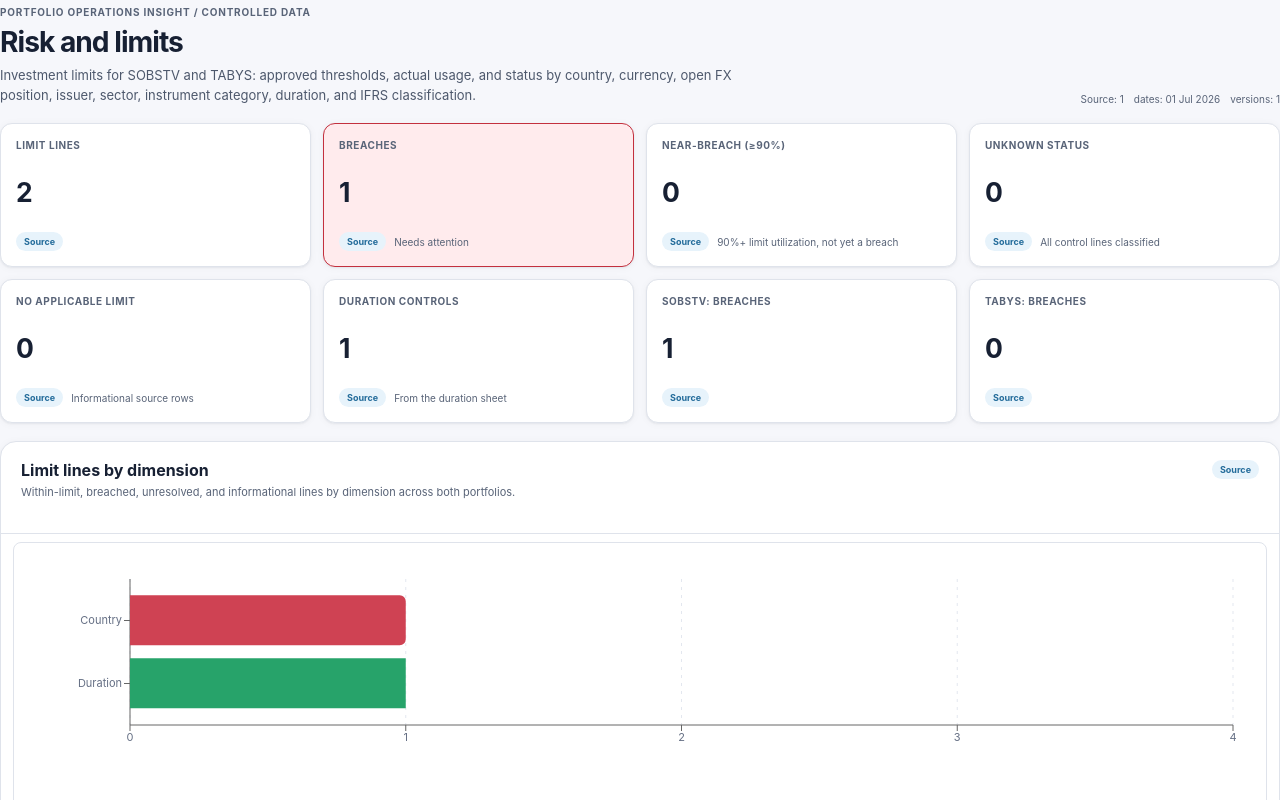
Test: multi-source domain pages › scopes each risk KPI card's evidence to the records that make up its own count
Click the button with aria-label "Breaches: source" at (363, 242), box 339,232 -> 386,251
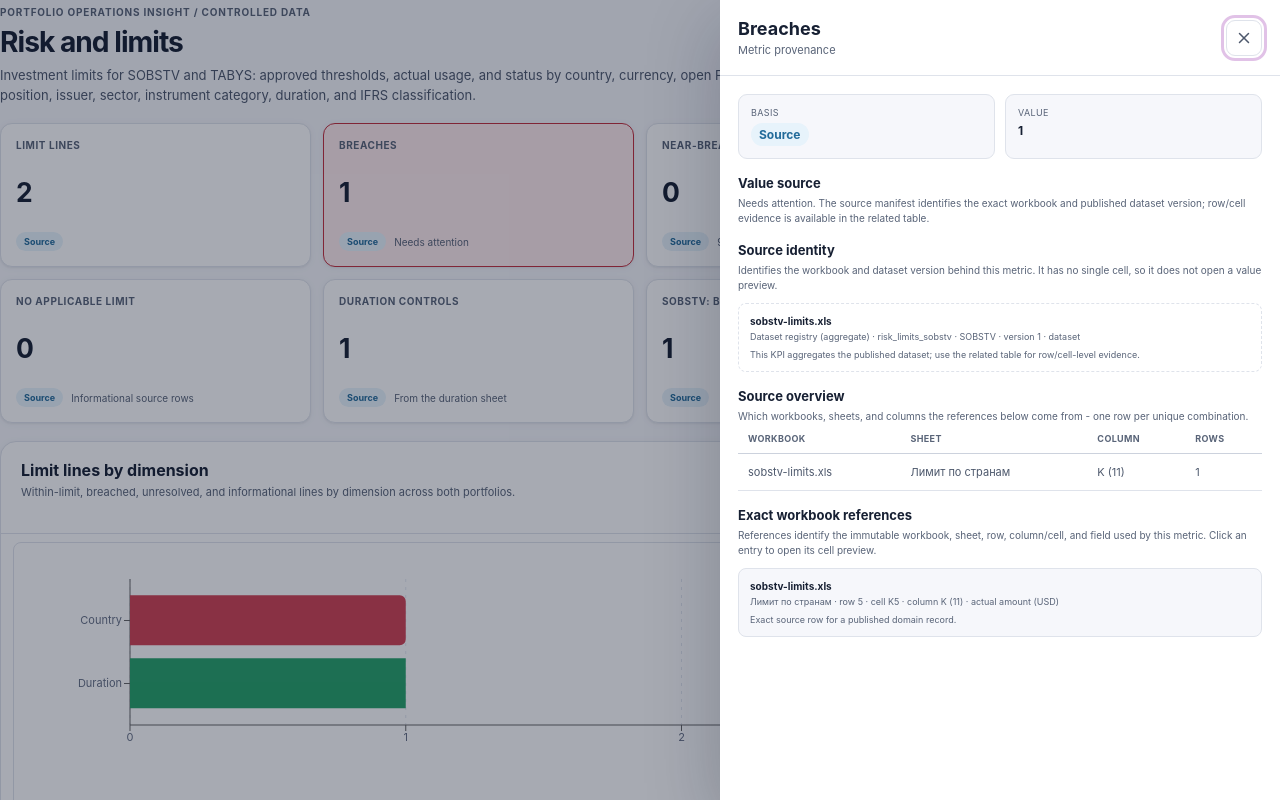
Expected: the text "Metric provenance" is shown, 738,43 -> 836,57
Expected: the text "Лимит по странам" is shown, 900,454 -> 1087,490
Expected: the text "cell K5" is shown, 750,596 -> 963,607
Click the button named "Close details" at (1244, 38), box 1226,20 -> 1262,56
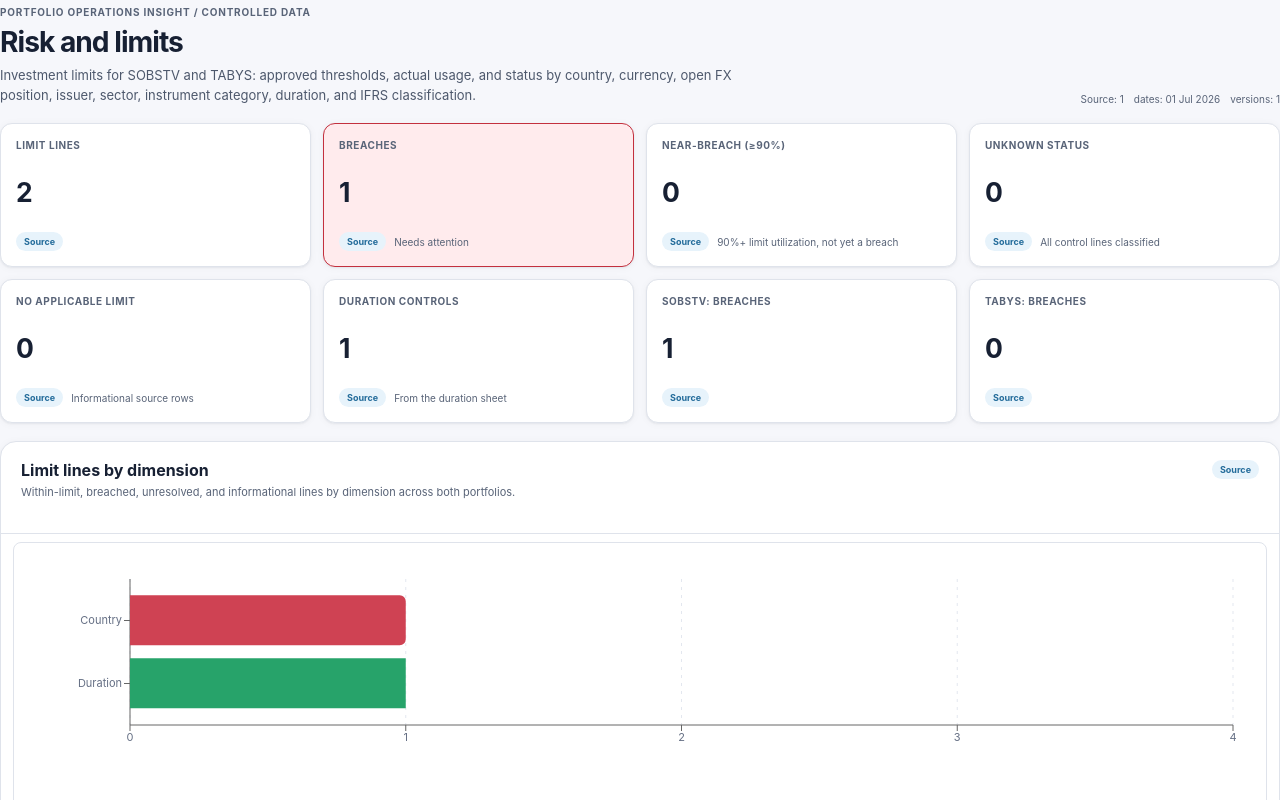
Click the button with aria-label "Duration controls: source" at (363, 398), box 339,388 -> 386,407
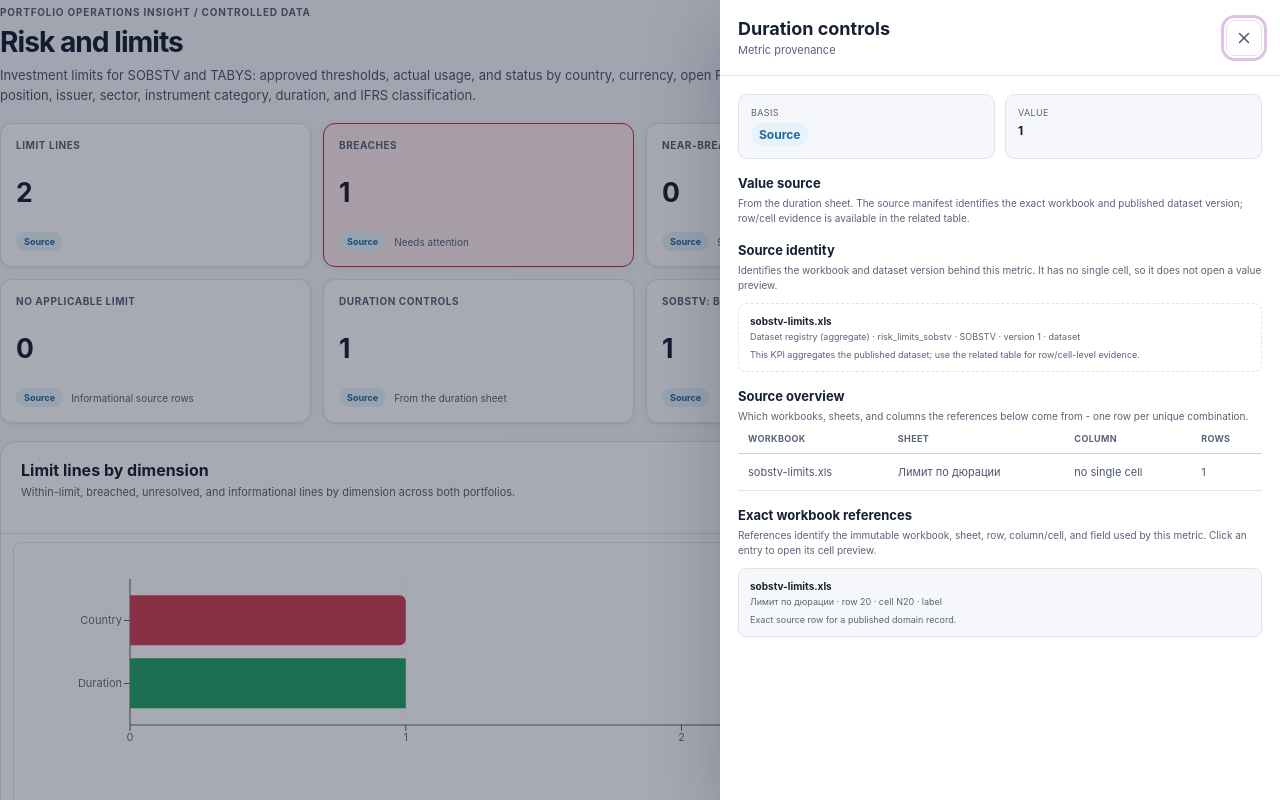
Expected: the text "Metric provenance" is shown, 738,43 -> 836,57
Expected: the text "Лимит по дюрации" is shown, 888,454 -> 1064,490
